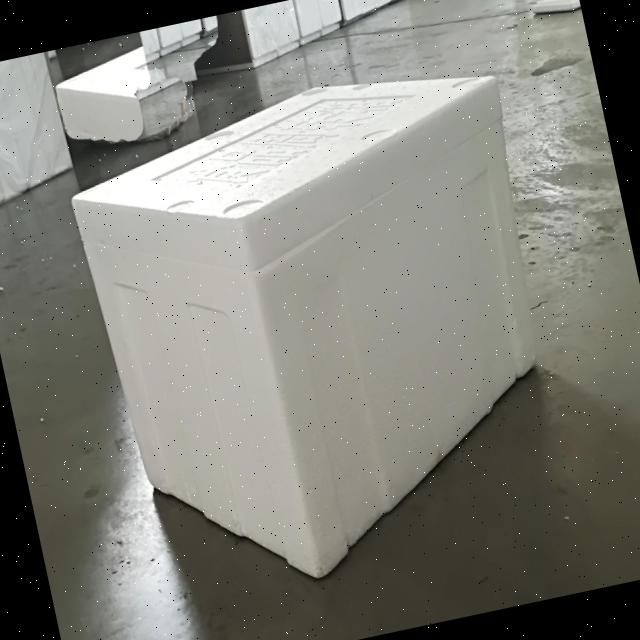styrofoam: (56, 46, 592, 613)
